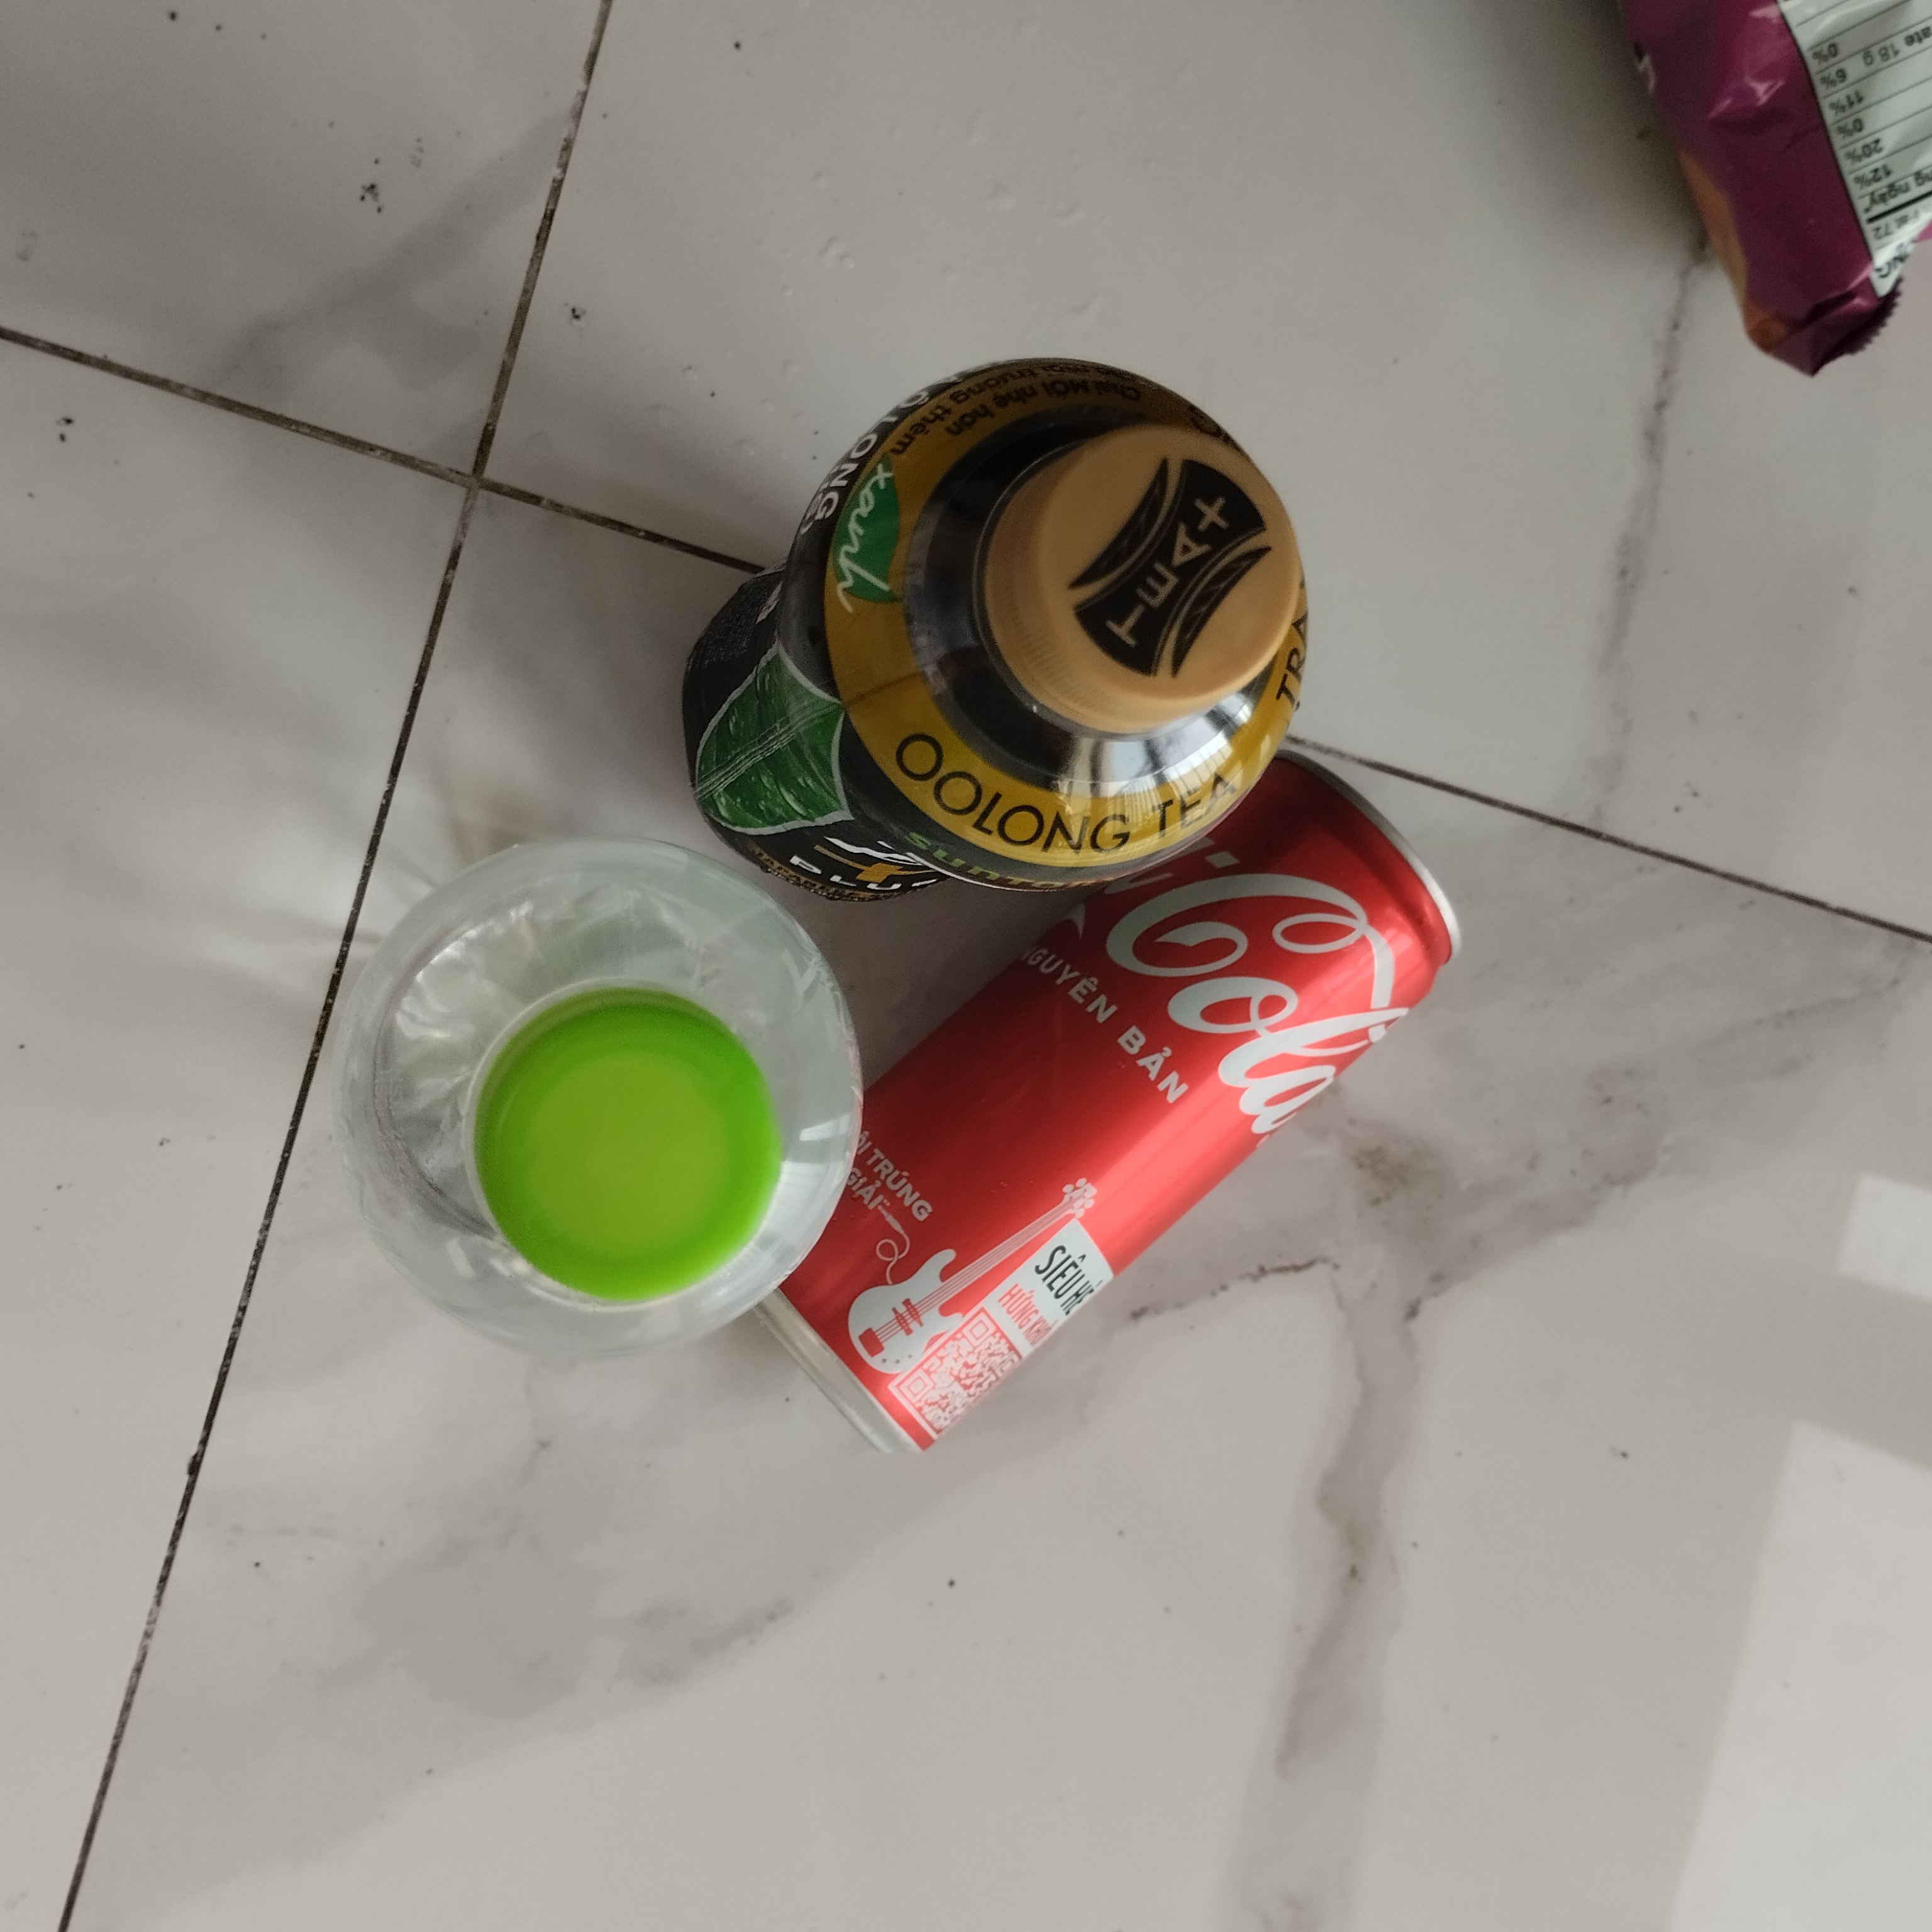Coca: (732, 736, 1468, 1490)
Dasani: (347, 832, 863, 1343)
Olong: (688, 347, 1309, 962)
